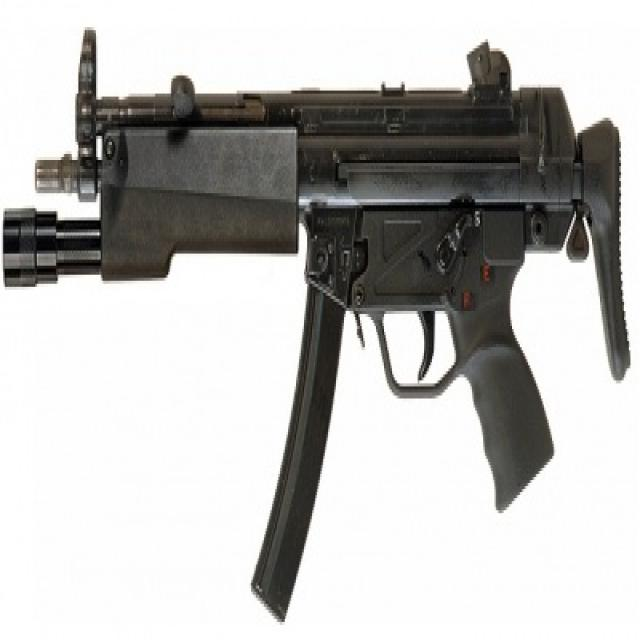rifle: (3, 9, 640, 640)
